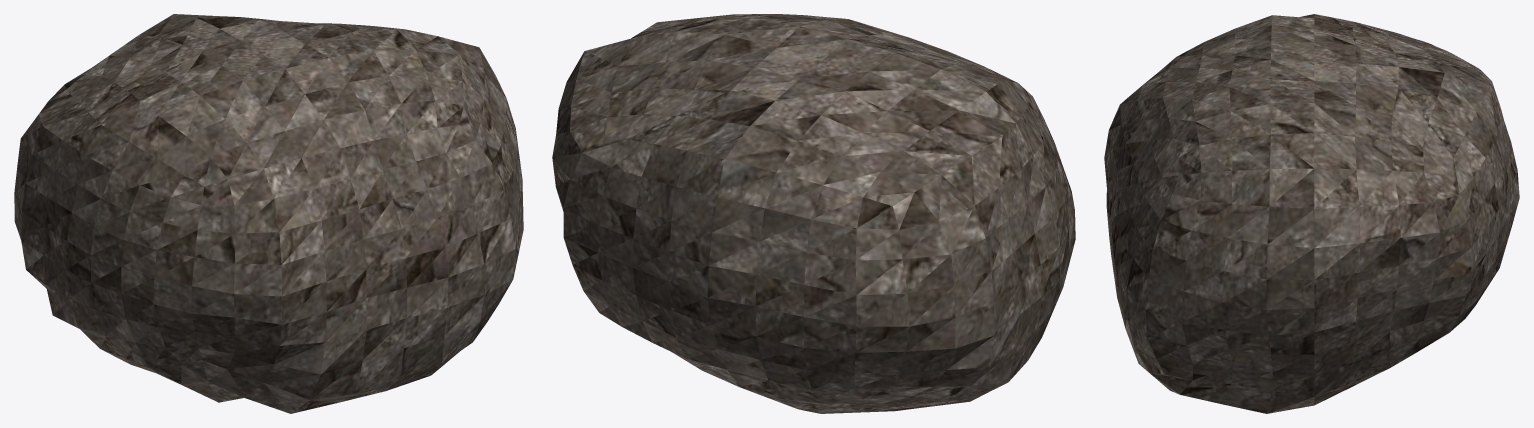
Rendered from rock-big-old.gltf.
The picture shows the model from 3 angles, left to right: view 1: azimuth 30°, elevation 25°; view 2: azimuth 150°, elevation 25°; view 3: azimuth 270°, elevation 25°; orthographic projection. The views are drawn at different scales.
Visible parts, largest first — view 1: Object.123; view 2: Object.123; view 3: Object.123.
Part boxes in pixels (x1,y1,x2,y2): Object.123: (14,14,523,413); Object.123: (552,14,1075,413); Object.123: (1104,14,1519,413).
Bounding box in the file's own units: 0.3895 × 0.256 × 0.3318.
Materials: 1 (1 with a texture image).
